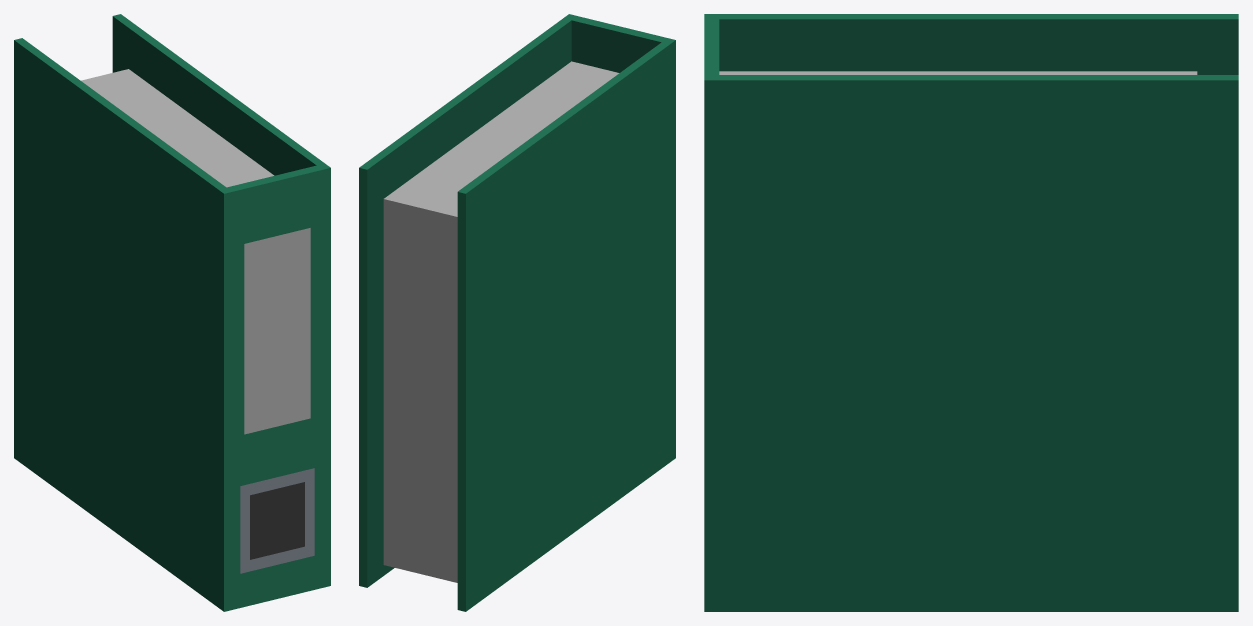
The model's file is SO_Boxfile_03.fbx.
The picture shows the model from 3 angles, left to right: view 1: azimuth 30°, elevation 25°; view 2: azimuth 150°, elevation 25°; view 3: azimuth 270°, elevation 25°; orthographic projection. The views are drawn at different scales.
Parts seen in each view (by area): view 1: SO_Boxfile_03; view 2: SO_Boxfile_03; view 3: SO_Boxfile_03.
Boxes of the visible parts, x1,y1,x2,y2 form: SO_Boxfile_03: (14,14,330,611); SO_Boxfile_03: (359,14,675,611); SO_Boxfile_03: (704,14,1238,611).
Bounding box in the file's own units: 0.1745 × 0.6529 × 0.5946.
